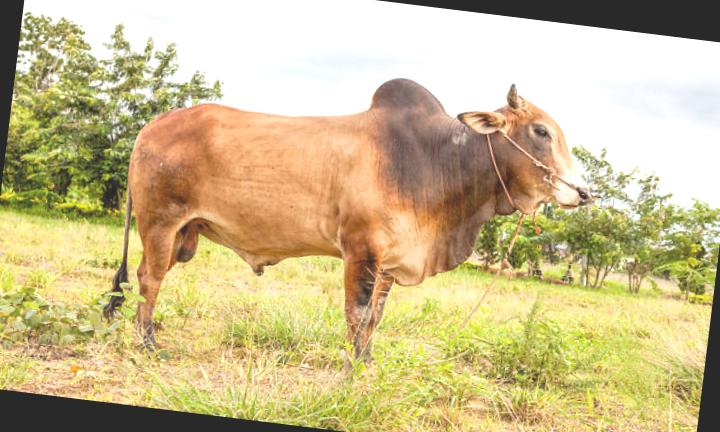Brahman: (127, 79, 591, 356)
